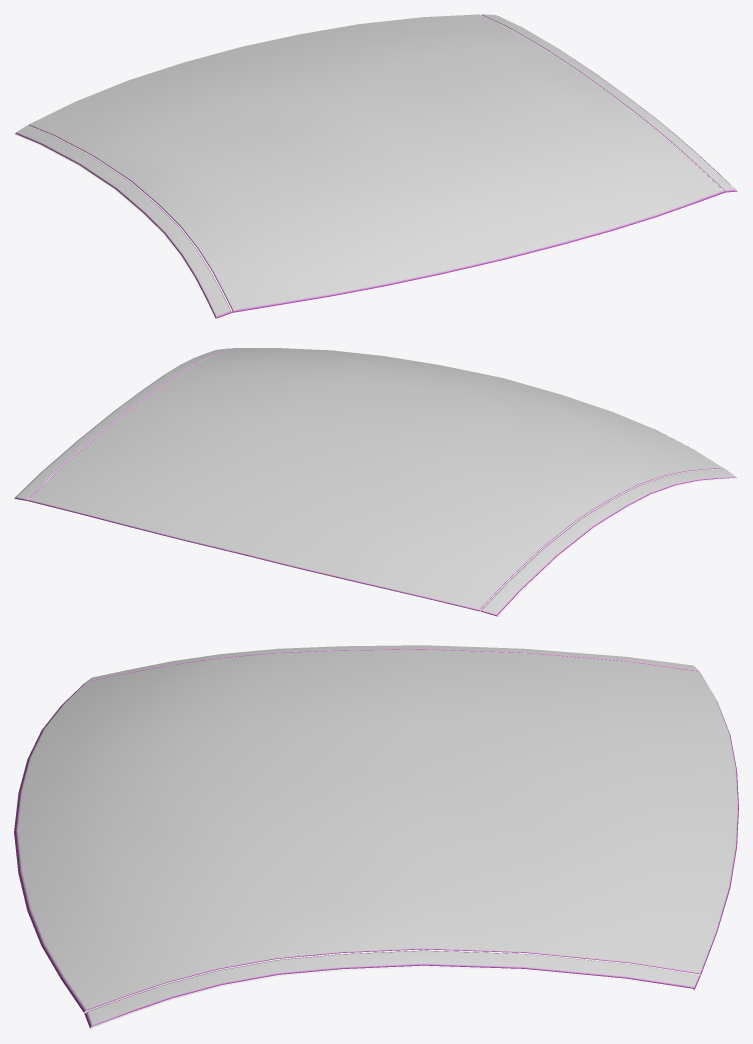
Rendered from Car_MercedesBenz_AMGGT_2015_Roof_SetA.fbx.
3 renders of one model, top to bottom at view 1: azimuth 30°, elevation 25°; view 2: azimuth 150°, elevation 25°; view 3: azimuth 270°, elevation 25°, orthographic. The views are drawn at different scales.
Visible parts, largest first — view 1: Roof 6; view 2: Roof 6; view 3: Roof 6.
Part boxes in pixels (<box>): Roof 6: <box>14,14,738,319</box>; Roof 6: <box>14,348,737,616</box>; Roof 6: <box>14,645,738,1029</box>.
Bounding box in the file's own units: 1.16 × 0.1261 × 1.02.
